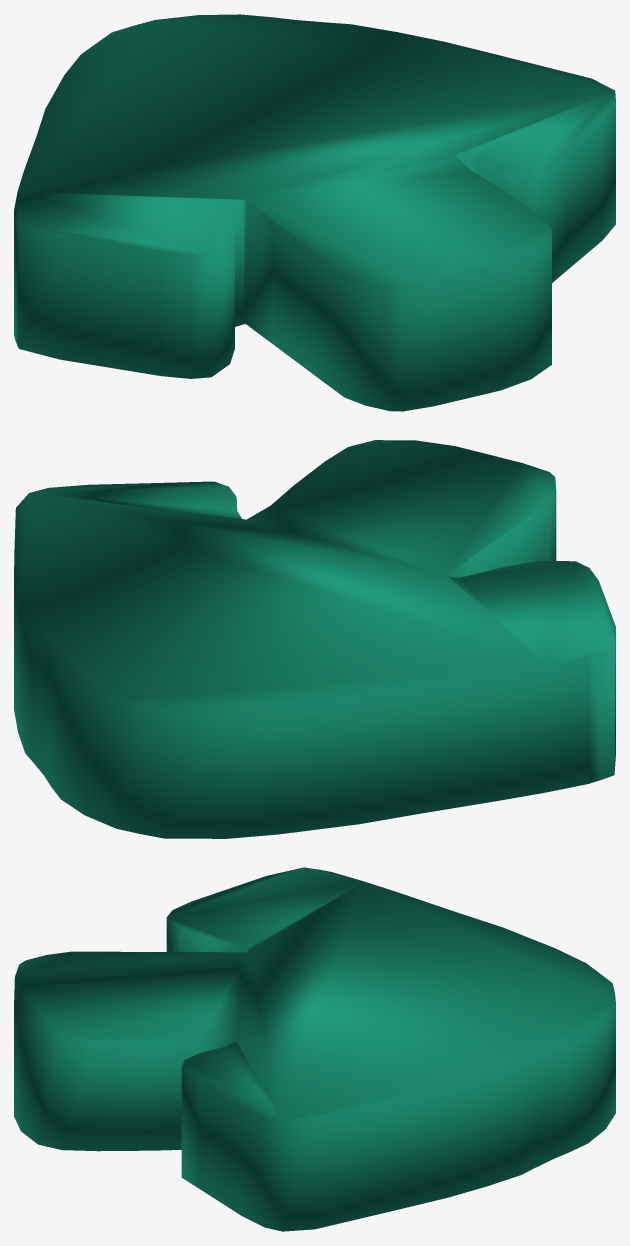
The model's file is Arrow_Cut.gltf.
The picture shows the model from 3 angles, top to bottom: view 1: azimuth 30°, elevation 25°; view 2: azimuth 150°, elevation 25°; view 3: azimuth 270°, elevation 25°; orthographic projection. The views are drawn at different scales.
Visible parts, largest first — view 1: polyline12.001; view 2: polyline12.001; view 3: polyline12.001.
Part boxes in pixels (left/top/right/bottom): polyline12.001: left=14, top=14, right=615, bottom=411; polyline12.001: left=14, top=440, right=615, bottom=838; polyline12.001: left=14, top=867, right=615, bottom=1231.
Bounding box in the file's own units: 250 × 51 × 251.
Materials: 1 (1 with a texture image).
